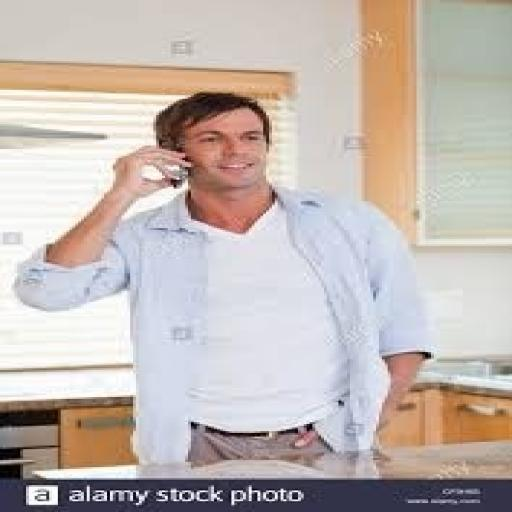calling: (12, 90, 440, 471)
